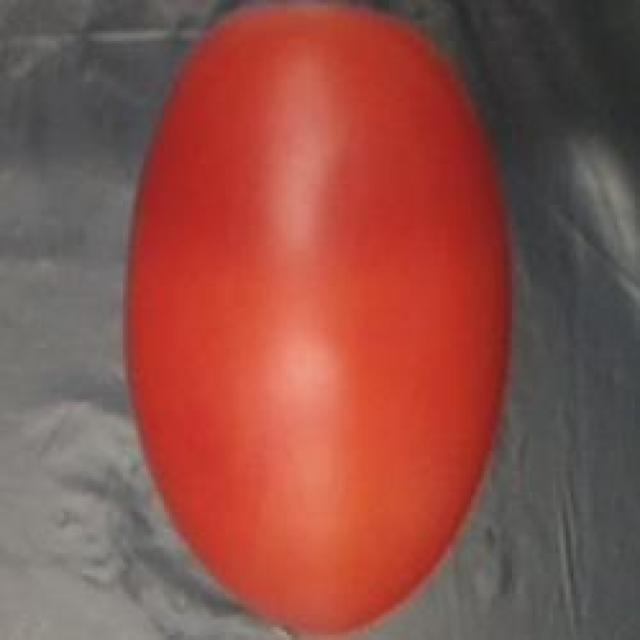ripe tomato: (105, 0, 522, 640)
